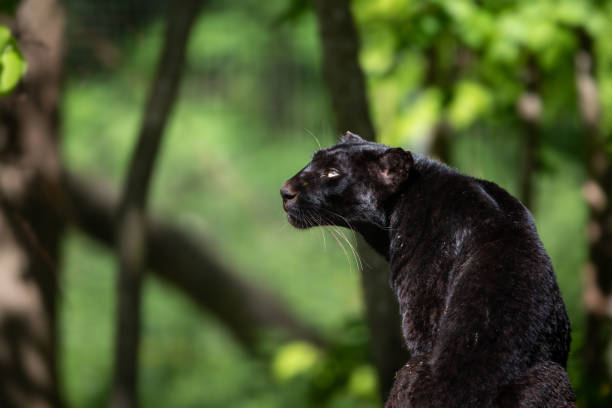panther: (262, 120, 425, 252)
